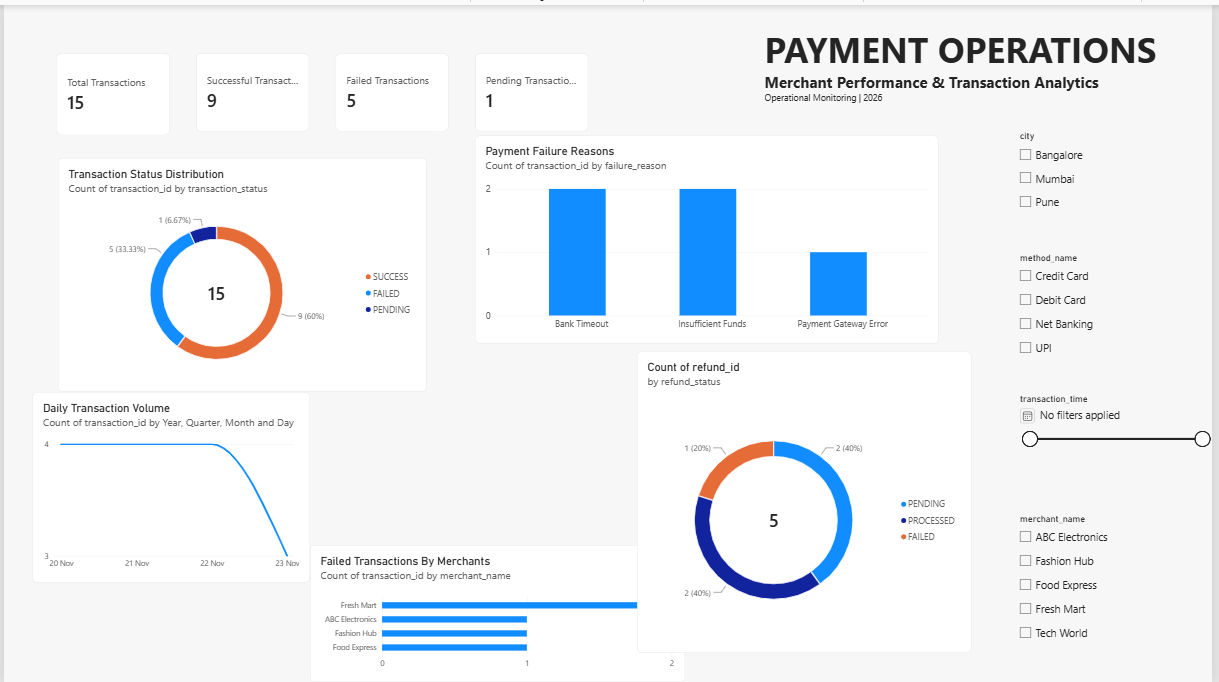

This screenshot's page, from the dashboard's own definition file:
{"tool":"powerbi","page":{"name":"Page 1","canvas":[1920,1080],"ordinal":0},"visuals":[{"type":"cardVisual","fields":{"Data":["public transactions.Total Transactions"]},"box":[83.8,77.5,180,131],"z":0},{"type":"cardVisual","fields":{"Data":["public transactions.Pending Transactions"]},"box":[750,77.5,180,125],"z":1000},{"type":"cardVisual","fields":{"Data":["public transactions.Successful Transactions"]},"box":[305,77.5,180,125],"z":2000},{"type":"cardVisual","fields":{"Data":["public transactions.Failed Transactions"]},"box":[526.2,77.5,180,125],"z":3000},{"type":"donutChart","title":"Transaction Status Distribution","fields":{"Category":["public transactions.transaction_status"],"Y":["CountNonNull(public transactions.transaction_id)"]},"box":[85.9,243.4,586.9,372.2],"z":4000},{"type":"lineChart","title":"Daily Transaction Volume","fields":{"Category":["public transactions.transaction_time.Variation.Date Hierarchy.Year","public transactions.transaction_time.Variation.Date Hierarchy.Quarter","public transactions.transaction_time.Variation.Date Hierarchy.Month","public transactions.transaction_time.Variation.Date Hierarchy.Day"],"Y":["CountNonNull(public transactions.transaction_id)"]},"box":[45.3,615.6,441.4,303],"z":5000},{"type":"clusteredBarChart","title":"Failed Transactions By Merchants","fields":{"Category":["public merchants.merchant_name"],"Y":["CountNonNull(public transactions.transaction_id)"]},"box":[486.7,858.9,596.5,219.5],"z":6000},{"type":"clusteredColumnChart","title":"Payment Failure Reasons","fields":{"Category":["public transactions.failure_reason"],"Y":["CountNonNull(public transactions.transaction_id)"]},"box":[749.2,207.6,737.2,331.6],"z":7000},{"type":"donutChart","fields":{"Category":["public refunds.refund_status"],"Y":["CountNonNull(public refunds.refund_id)"]},"box":[1083.2,539.2,532.1,479.6],"z":8000},{"type":"slicer","fields":{"Values":["public merchants.merchant_name"]},"box":[1608.1,808.8,314,221],"z":9000},{"type":"slicer","fields":{"Values":["public merchants.city"]},"box":[1608.1,200.4,314.9,157.5],"z":10000},{"type":"slicer","fields":{"Values":["public payment_methods.method_name"]},"box":[1605.7,357.9,314,299],"z":11000},{"type":"slicer","fields":{"Values":["public transactions.transaction_time"]},"box":[1608.1,618,314,221],"z":12000},{"type":"textbox","box":[1210,30,710,212.5],"z":13000}]}

Visuals, with their boxes in screenshot pixels (x1, y1, x2, y2), scaled from the page's 1920x1080 canvas onto the 1219x682 screenshot:
cardVisual - public transactions.Total Transactions: bbox=(53, 49, 167, 132)
cardVisual - public transactions.Pending Transactions: bbox=(476, 49, 590, 128)
cardVisual - public transactions.Successful Transactions: bbox=(194, 49, 308, 128)
cardVisual - public transactions.Failed Transactions: bbox=(334, 49, 448, 128)
"Transaction Status Distribution" donutChart: bbox=(55, 154, 427, 389)
"Daily Transaction Volume" lineChart: bbox=(29, 389, 309, 580)
"Failed Transactions By Merchants" clusteredBarChart: bbox=(309, 542, 688, 681)
"Payment Failure Reasons" clusteredColumnChart: bbox=(476, 131, 944, 340)
donutChart - public refunds.refund_status x CountNonNull(public refunds.refund_id): bbox=(688, 340, 1026, 643)
slicer - public merchants.merchant_name: bbox=(1021, 511, 1218, 650)
slicer - public merchants.city: bbox=(1021, 127, 1218, 226)
slicer - public payment_methods.method_name: bbox=(1019, 226, 1218, 415)
slicer - public transactions.transaction_time: bbox=(1021, 390, 1218, 530)
textbox: bbox=(768, 19, 1218, 153)
